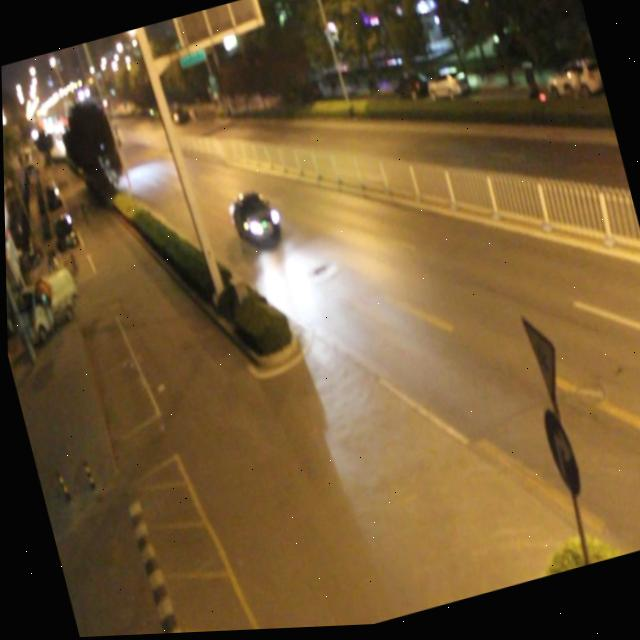car: (224, 188, 281, 252)
